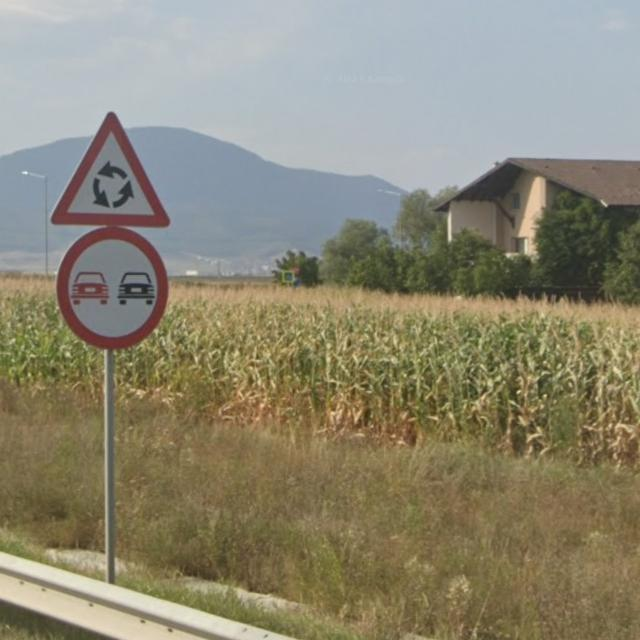forb_overtake: (54, 225, 171, 351)
